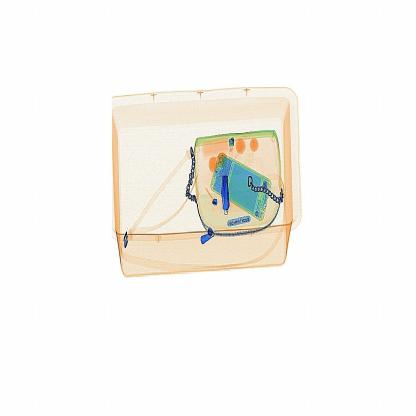knife: (216, 169, 236, 221)
